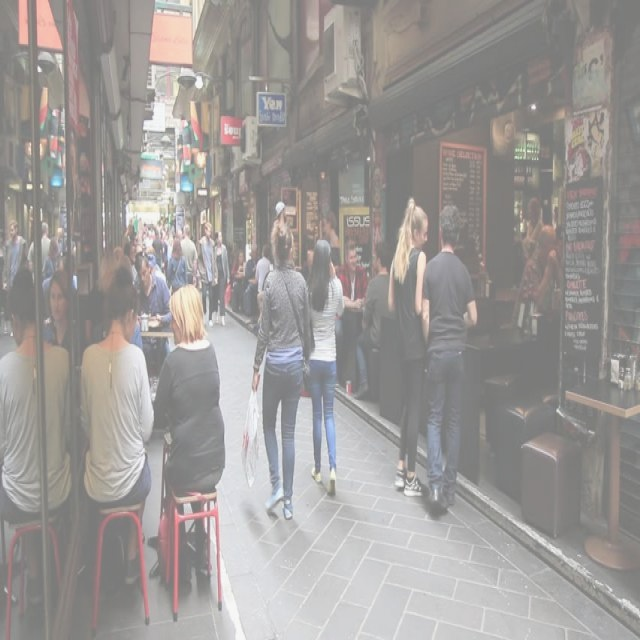pessoa: (72, 266, 156, 590), (0, 342, 88, 606), (152, 280, 226, 560), (419, 203, 479, 522), (250, 215, 311, 522), (0, 214, 116, 344), (386, 194, 431, 498), (90, 254, 146, 478), (304, 238, 346, 498), (352, 238, 394, 400), (508, 222, 564, 330), (133, 250, 173, 382), (496, 194, 544, 282), (195, 218, 218, 328), (336, 238, 368, 310), (138, 212, 174, 276), (248, 242, 270, 326), (114, 217, 140, 288), (212, 228, 230, 328), (550, 221, 570, 303), (270, 198, 294, 254), (166, 237, 188, 295), (180, 223, 198, 288), (230, 248, 245, 313), (295, 234, 315, 282), (244, 241, 262, 287), (320, 208, 340, 248), (242, 258, 251, 324), (224, 240, 236, 275), (173, 211, 184, 241), (190, 229, 198, 247), (237, 232, 246, 248)
